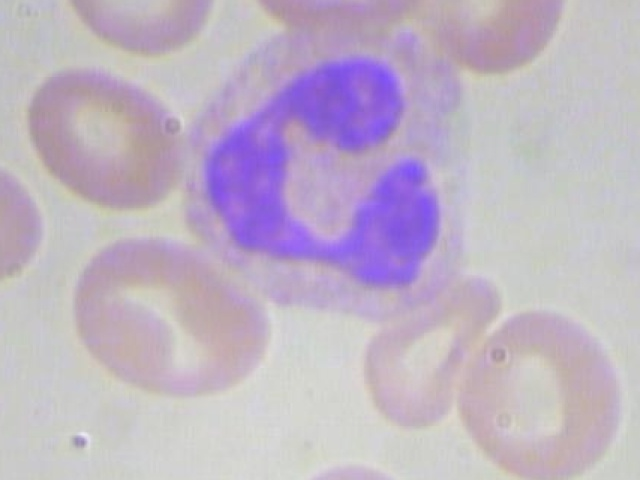RBC: (70, 227, 273, 412), (456, 300, 639, 480), (16, 55, 201, 216), (340, 272, 507, 430), (390, 0, 588, 75), (46, 0, 231, 60), (0, 153, 41, 284), (243, 0, 414, 31), (273, 451, 443, 480)
WBC: (174, 12, 518, 312)
